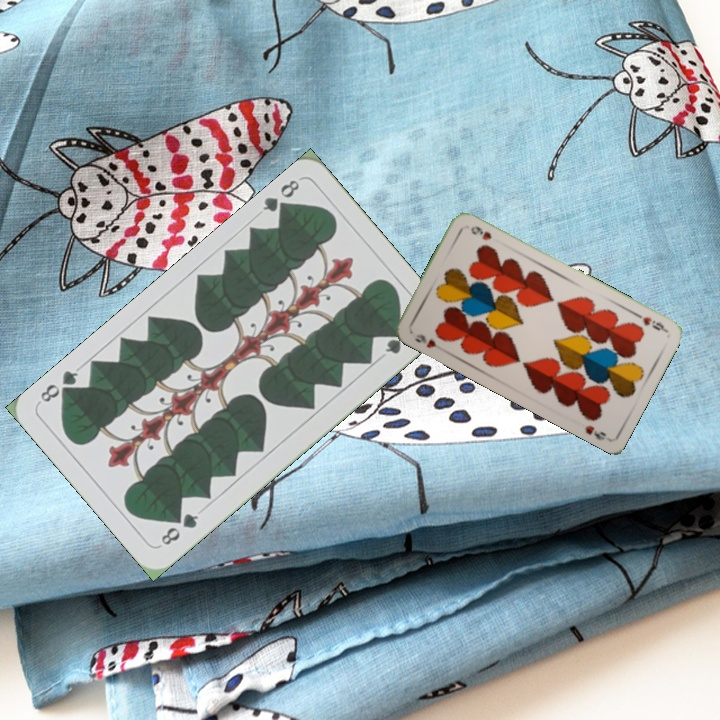G8: (258, 175, 303, 219), (156, 509, 202, 548)
H9: (638, 313, 669, 334), (411, 330, 439, 351)
